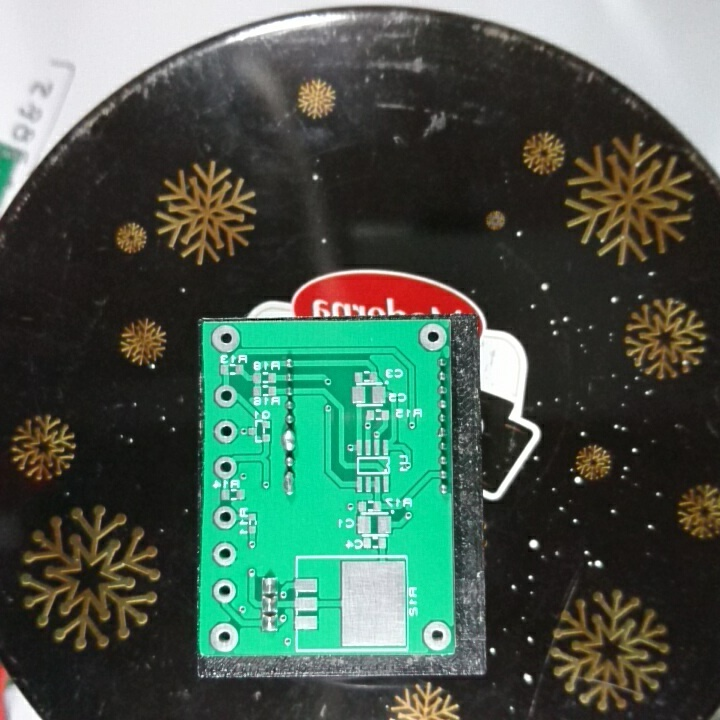F: (207, 621, 242, 653), (422, 620, 454, 651), (208, 325, 244, 352), (418, 321, 448, 353), (211, 503, 239, 532), (210, 540, 239, 568), (212, 454, 239, 482), (209, 578, 238, 604), (212, 384, 239, 410), (211, 418, 237, 444)
P: (280, 428, 300, 453), (282, 469, 299, 497)
